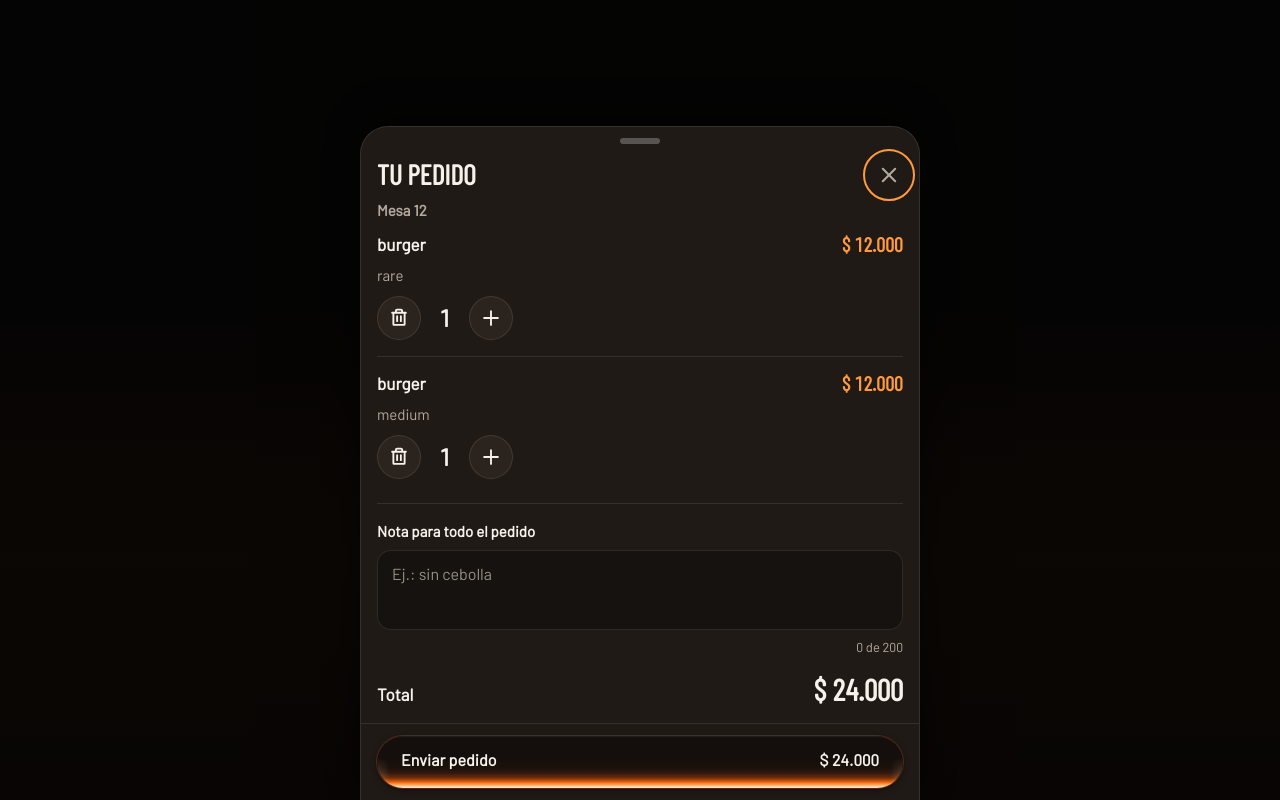
Test: CartSheet: resumen y envío del pedido (RF2, RF20-RF22, RF24-RF27, RF44; plan §5.4) › el restaurante rechaza el pedido (RF27, RF46) › LINES_REJECTED señala cada línea afectada con su motivo y pide quitarla antes de reenviar
Click the button "Enviar pedido $ 24.000".
click(449, 760)  # box [377,736,903,788]
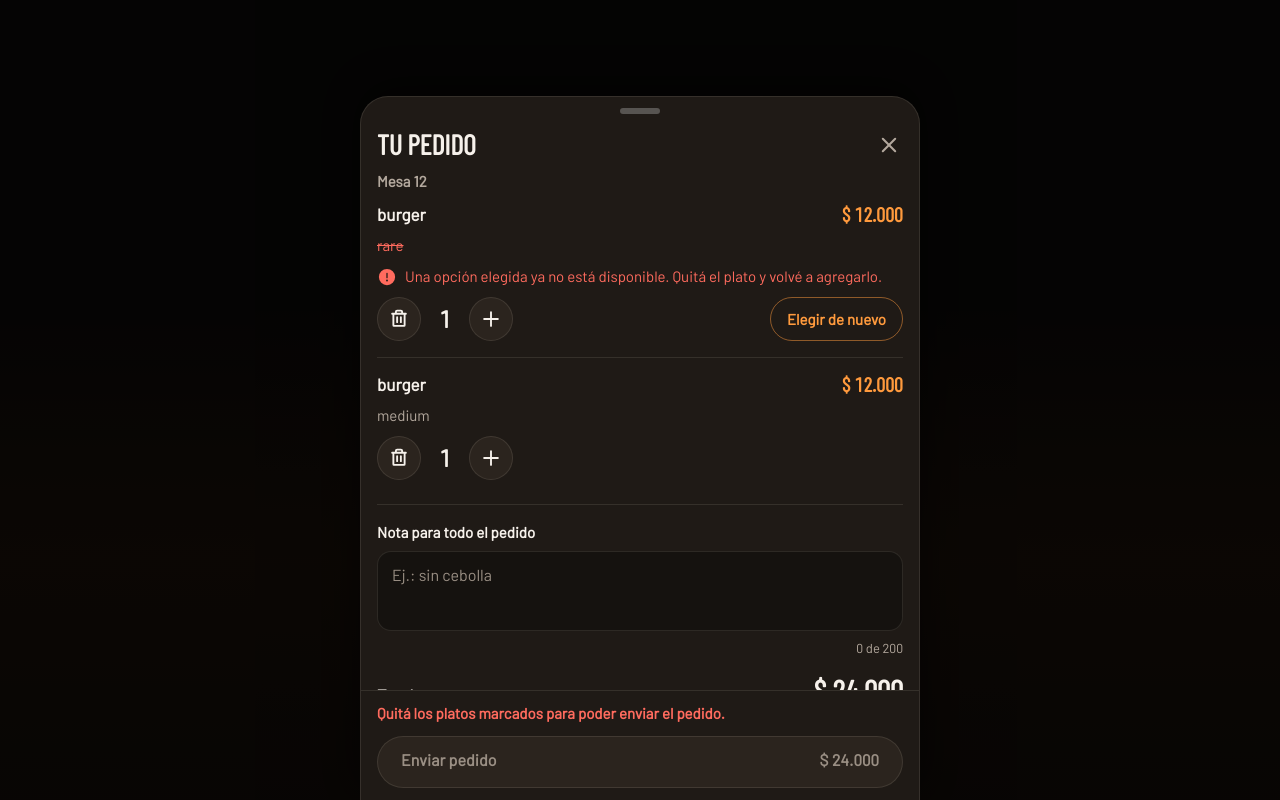
Result: the button "Enviar pedido $ 24.000" is disabled at [377,736,903,788]
Result: the 1st list item shows "Una opción elegida ya no está disponible" at [405,267,882,285]
Result: the message shows "Quitá los platos marcados" at [377,704,725,722]
Click the button named "Quitar" below "rare".
click(399, 319)  # box [377,297,421,341]
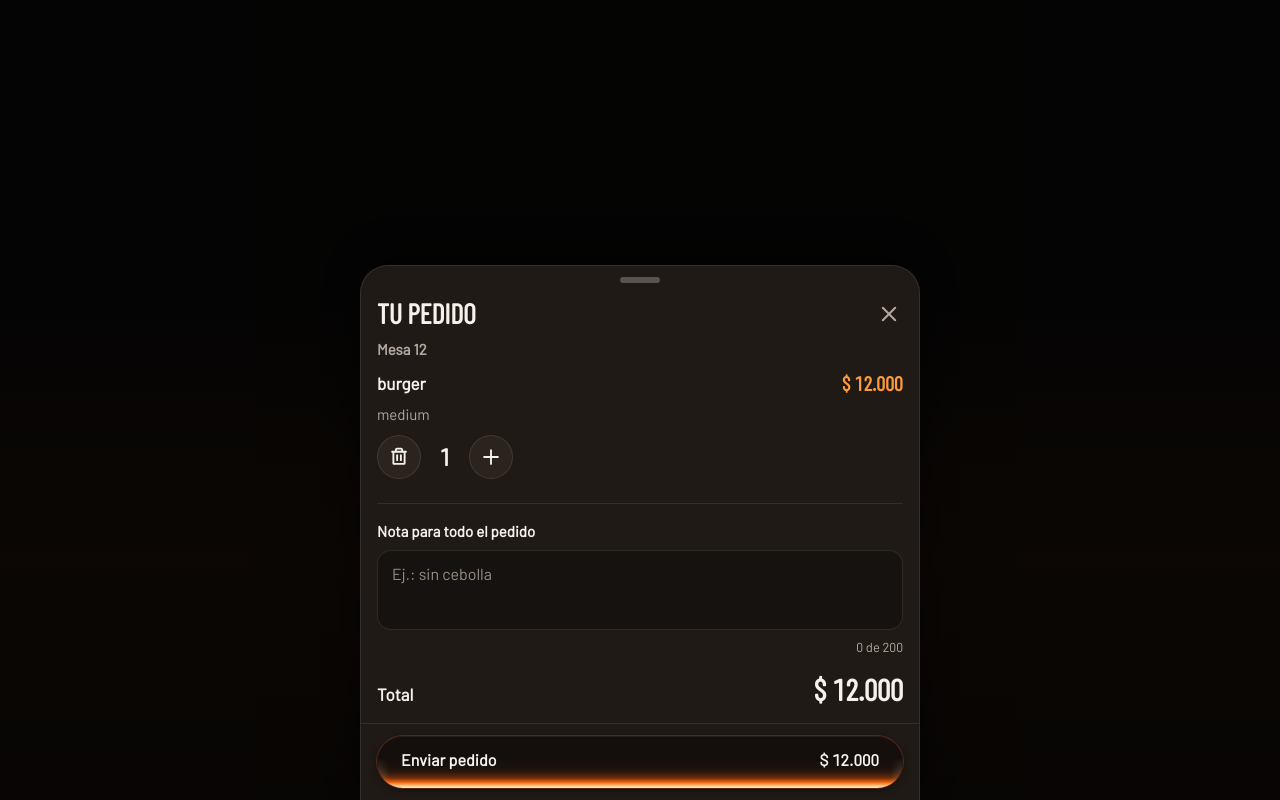
Result: the button "Enviar pedido $ 12.000" is enabled at [377,736,903,788]
